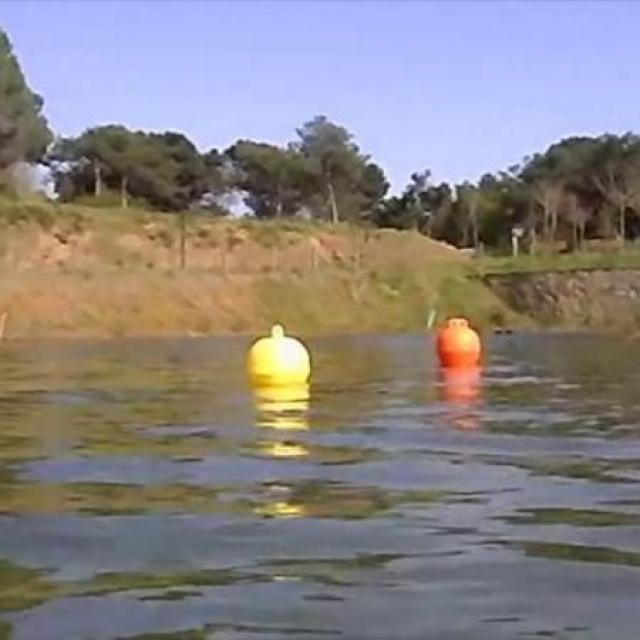buoy: (247, 324, 311, 384), (437, 315, 480, 366)
